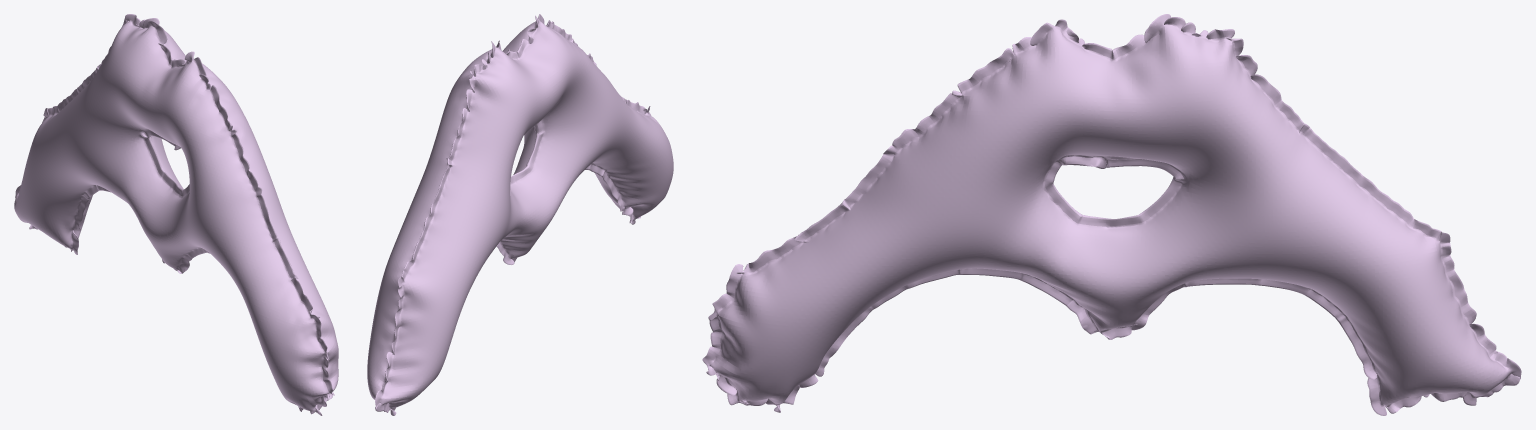
The picture shows the model from 3 angles, left to right: view 1: azimuth 30°, elevation 25°; view 2: azimuth 150°, elevation 25°; view 3: azimuth 270°, elevation 25°; orthographic projection. The views are drawn at different scales.
Visible parts, largest first — view 1: split_parent_0; view 2: split_parent_0; view 3: split_parent_0.
Boxes of the visible parts, x1,y1,x2,y2 form: split_parent_0: (14,14,338,415); split_parent_0: (367,14,673,415); split_parent_0: (702,14,1521,415).
Size of the model in its own units: 0.1627 by 0.5388 by 1.
